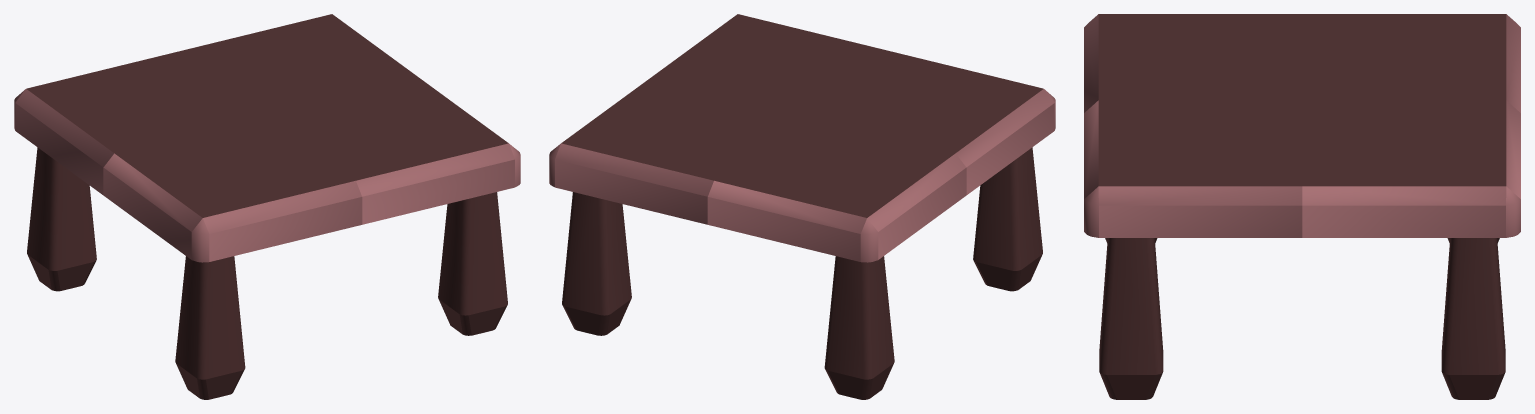
Rendered from Meja.FBX.
3 renders of one model, left to right at view 1: azimuth 30°, elevation 25°; view 2: azimuth 150°, elevation 25°; view 3: azimuth 270°, elevation 25°, orthographic. The views are drawn at different scales.
Visible parts, largest first — view 1: Cylinder001; view 2: Cylinder001; view 3: Cylinder001.
Boxes of the visible parts, x1,y1,x2,y2 form: Cylinder001: (14,14,520,399); Cylinder001: (549,14,1055,399); Cylinder001: (1084,14,1520,399).
Size of the model in its own units: 69.35 by 37.94 by 69.35.
